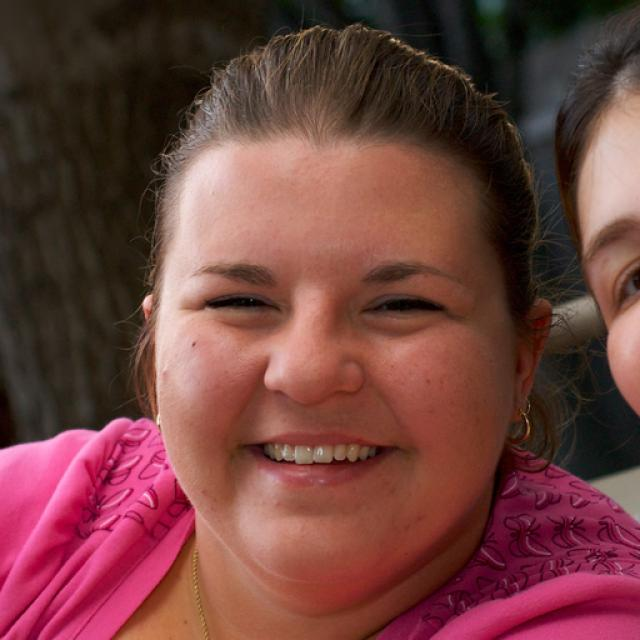Acne: (156, 361, 171, 383)
